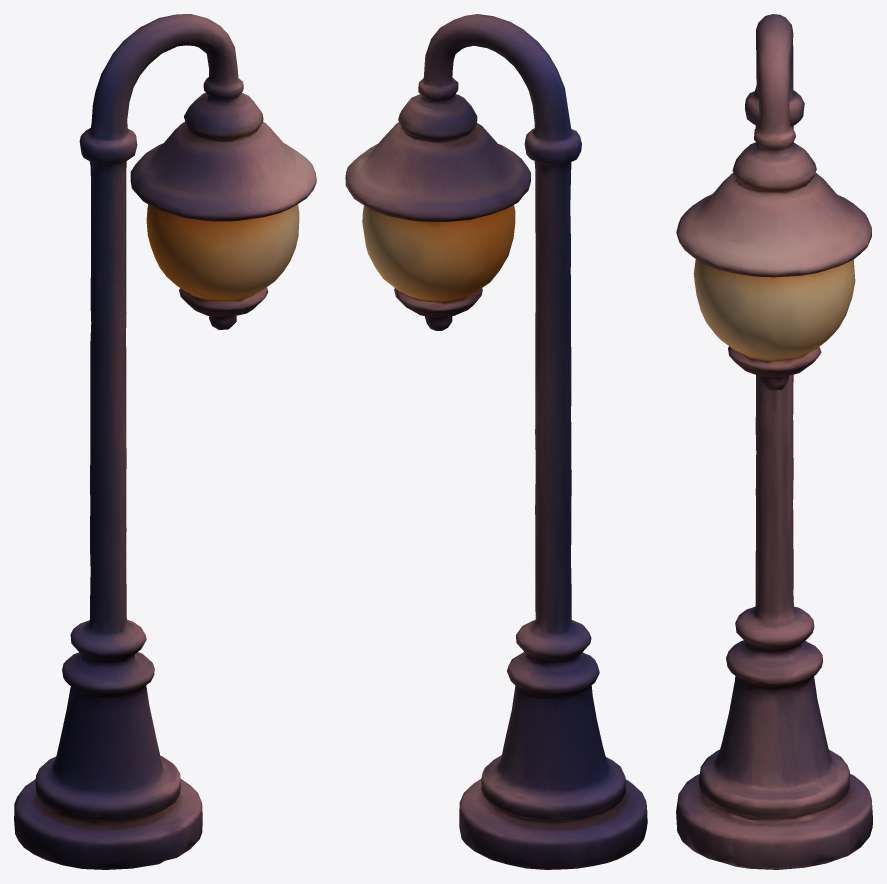
File: lamppost.glb
3 views of the same model, side by side, from view 1: azimuth 30°, elevation 25°; view 2: azimuth 150°, elevation 25°; view 3: azimuth 270°, elevation 25° (orthographic). The views are drawn at different scales.
Size of the model in its own units: 0.3647 by 0.9994 by 0.2127.
Materials: 1 (1 with a texture image).
